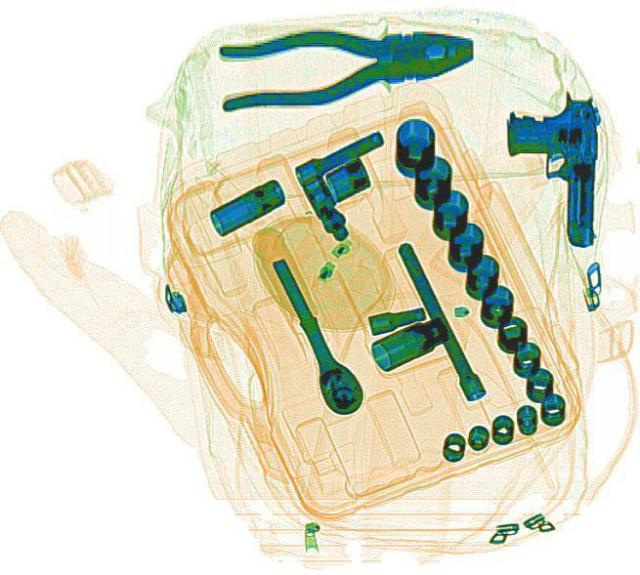Gun: (502, 92, 598, 246)
Pliers: (210, 10, 480, 114)
